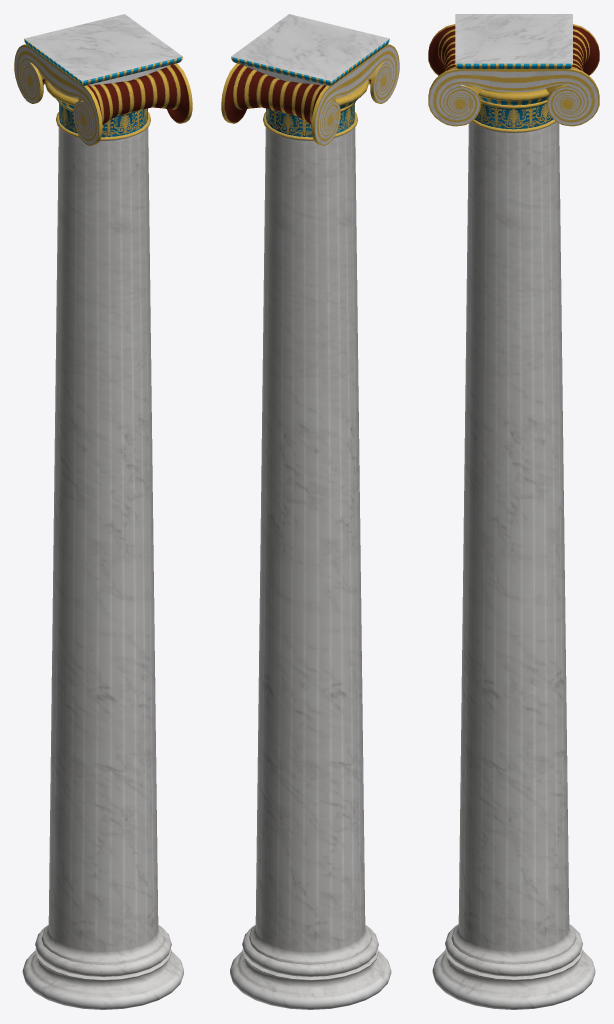
The model's file is Mh_Greek_Ionic.fbx.
The picture shows the model from 3 angles, left to right: view 1: azimuth 30°, elevation 25°; view 2: azimuth 150°, elevation 25°; view 3: azimuth 270°, elevation 25°; orthographic projection.
Parts seen in each view (by area): view 1: Mh_Greek_Ionic; view 2: Mh_Greek_Ionic; view 3: Mh_Greek_Ionic.
Part boxes in pixels (x1,y1,x2,y2): Mh_Greek_Ionic: (14,14,192,1009); Mh_Greek_Ionic: (221,14,399,1009); Mh_Greek_Ionic: (428,14,599,1009).
Size of the model in its own units: 166 by 1054 by 175.
